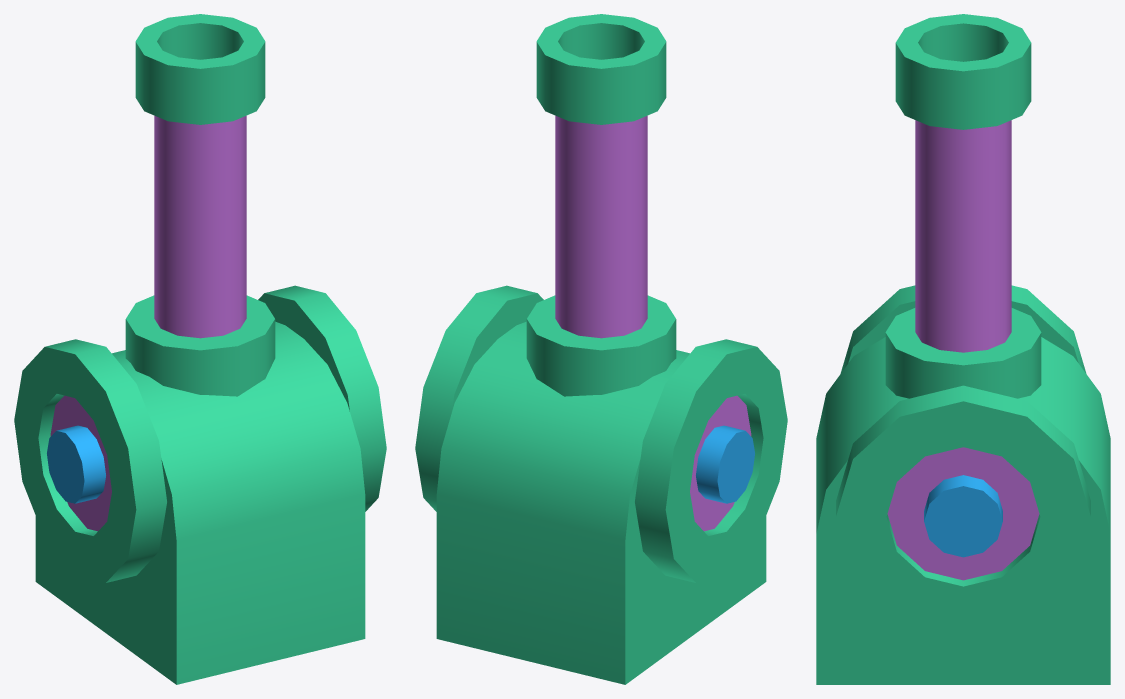
The model's file is Turret.fbx.
3 views of the same model, side by side, from view 1: azimuth 30°, elevation 25°; view 2: azimuth 150°, elevation 25°; view 3: azimuth 270°, elevation 25° (orthographic). The views are drawn at different scales.
Parts seen in each view (by area): view 1: Launcher, Nozzle; view 2: Launcher, Nozzle; view 3: Launcher, Nozzle.
Part boxes in pixels (box(x1,y1,x2,y2)): Launcher: box(14, 285, 386, 684); Nozzle: box(125, 14, 275, 396); Launcher: box(415, 285, 787, 684); Nozzle: box(526, 14, 676, 396); Launcher: box(816, 285, 1110, 684); Nozzle: box(885, 14, 1041, 398).
Size of the model in its own units: 139 by 280 by 126.
